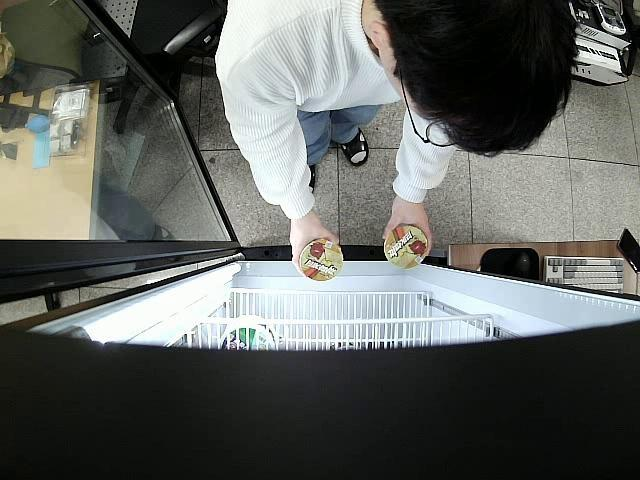04_chapagetti_S: (383, 222, 428, 269), (300, 237, 342, 282)
